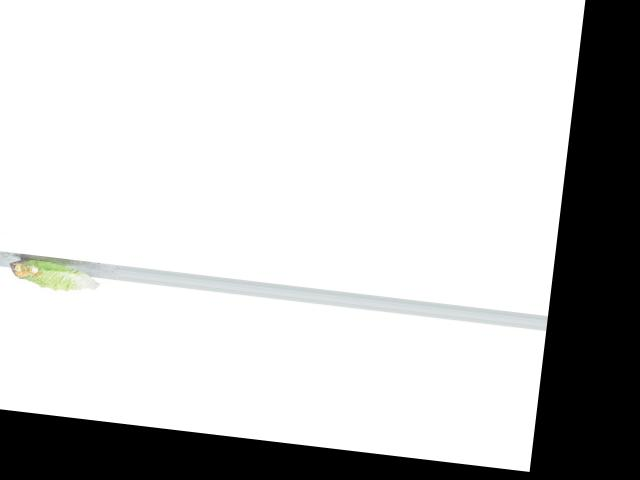lettuce: (3, 251, 103, 298)
